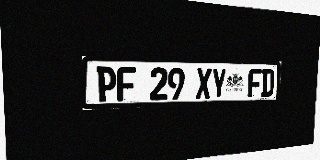2: (150, 67, 168, 100)
9: (168, 68, 185, 100)
D: (261, 69, 275, 97)
F: (117, 67, 136, 101), (248, 69, 262, 97)
P: (96, 66, 116, 102)
X: (196, 68, 211, 99)
Y: (211, 68, 226, 98)
